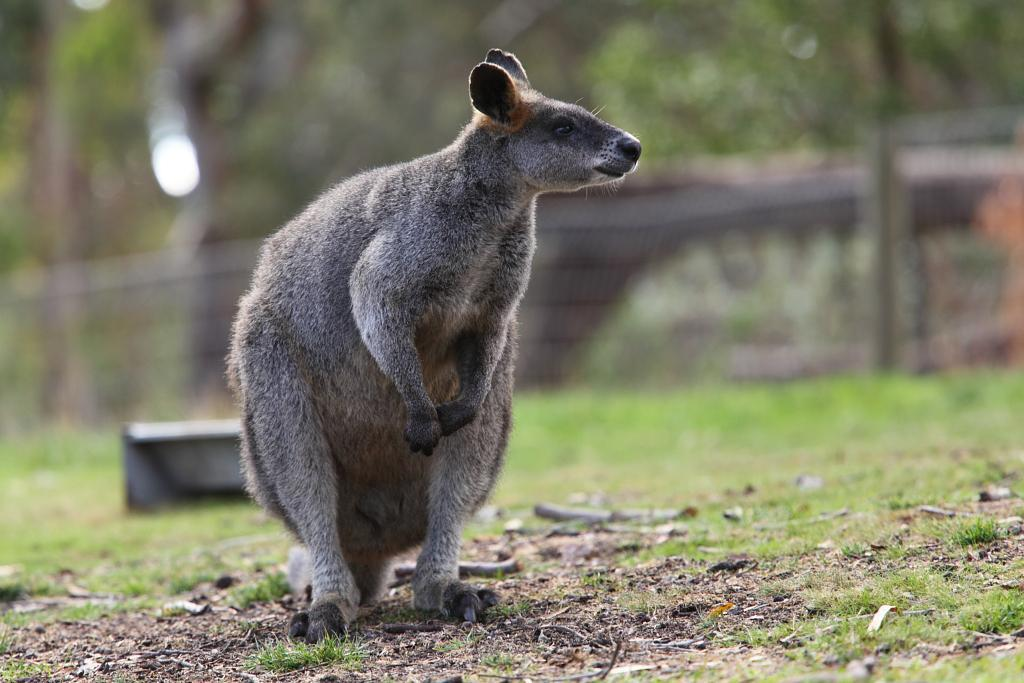kangaroo: (225, 45, 646, 642)
